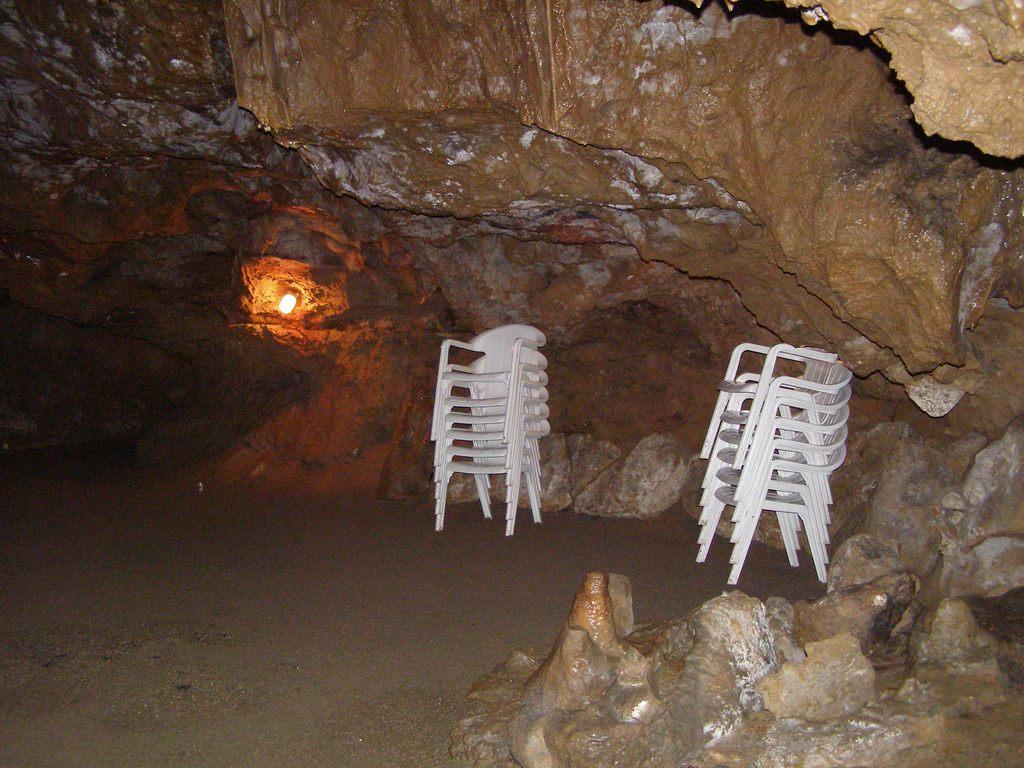Chair: (694, 340, 848, 584), (429, 323, 548, 532)
